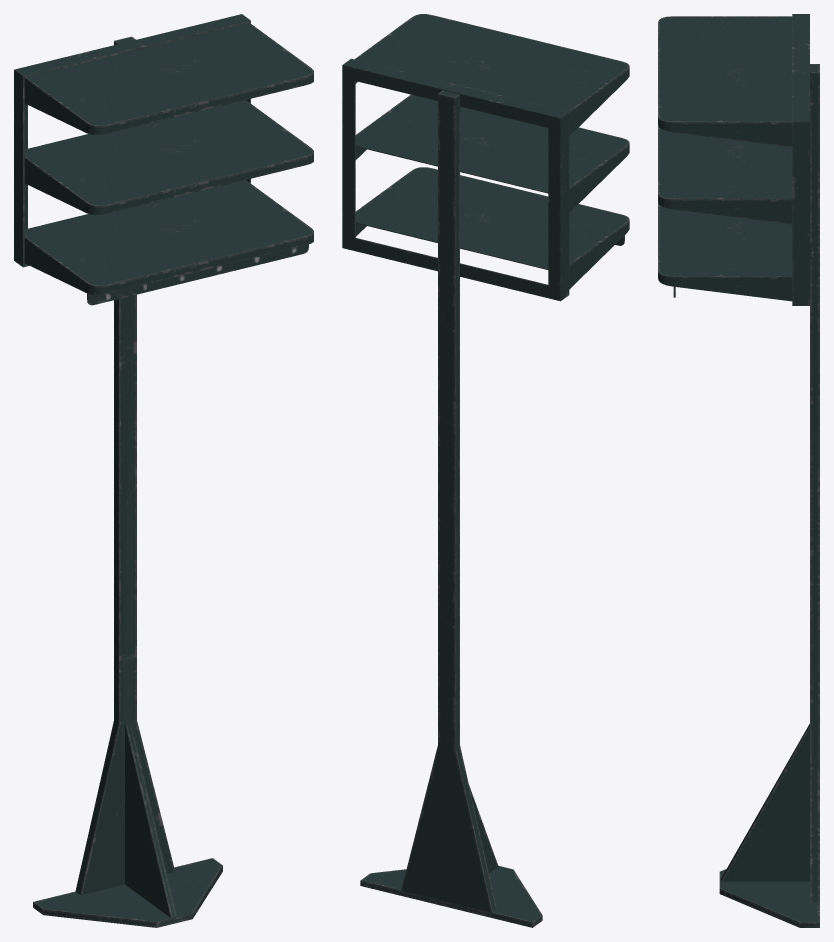
Rendered from CoatRack.fbx.
3 renders of one model, left to right at view 1: azimuth 30°, elevation 25°; view 2: azimuth 150°, elevation 25°; view 3: azimuth 270°, elevation 25°, orthographic. The views are drawn at different scales.
Visible parts, largest first — view 1: CoatRack; view 2: CoatRack; view 3: CoatRack.
Part boxes in pixels (x1=…): CoatRack: x1=14, y1=14, x2=313, y2=927; CoatRack: x1=342, y1=14, x2=629, y2=927; CoatRack: x1=658, y1=14, x2=819, y2=927.
Size of the model in its own units: 50.72 by 180 by 32.32.
